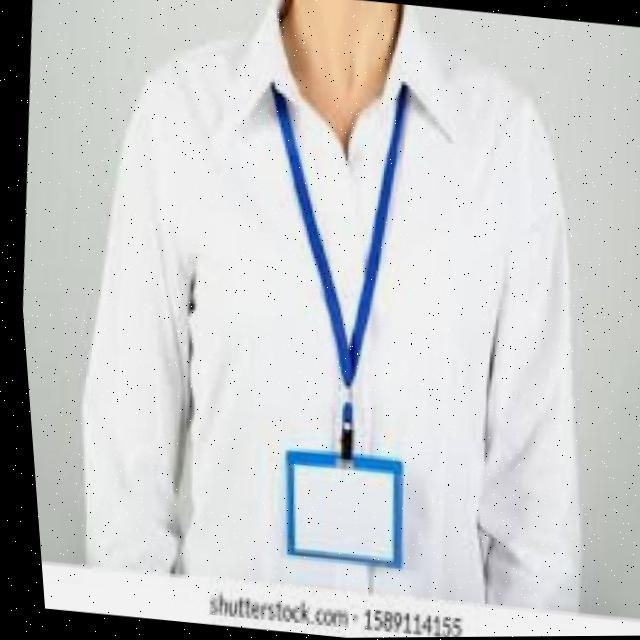id_card: (198, 61, 477, 581)
